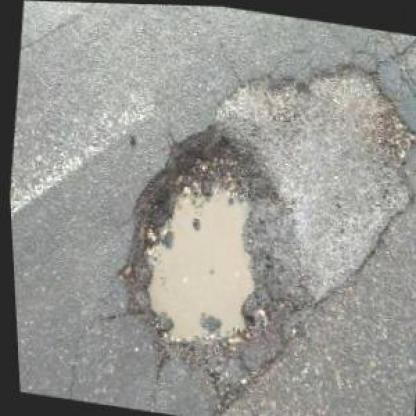pothole: (102, 106, 296, 378)
